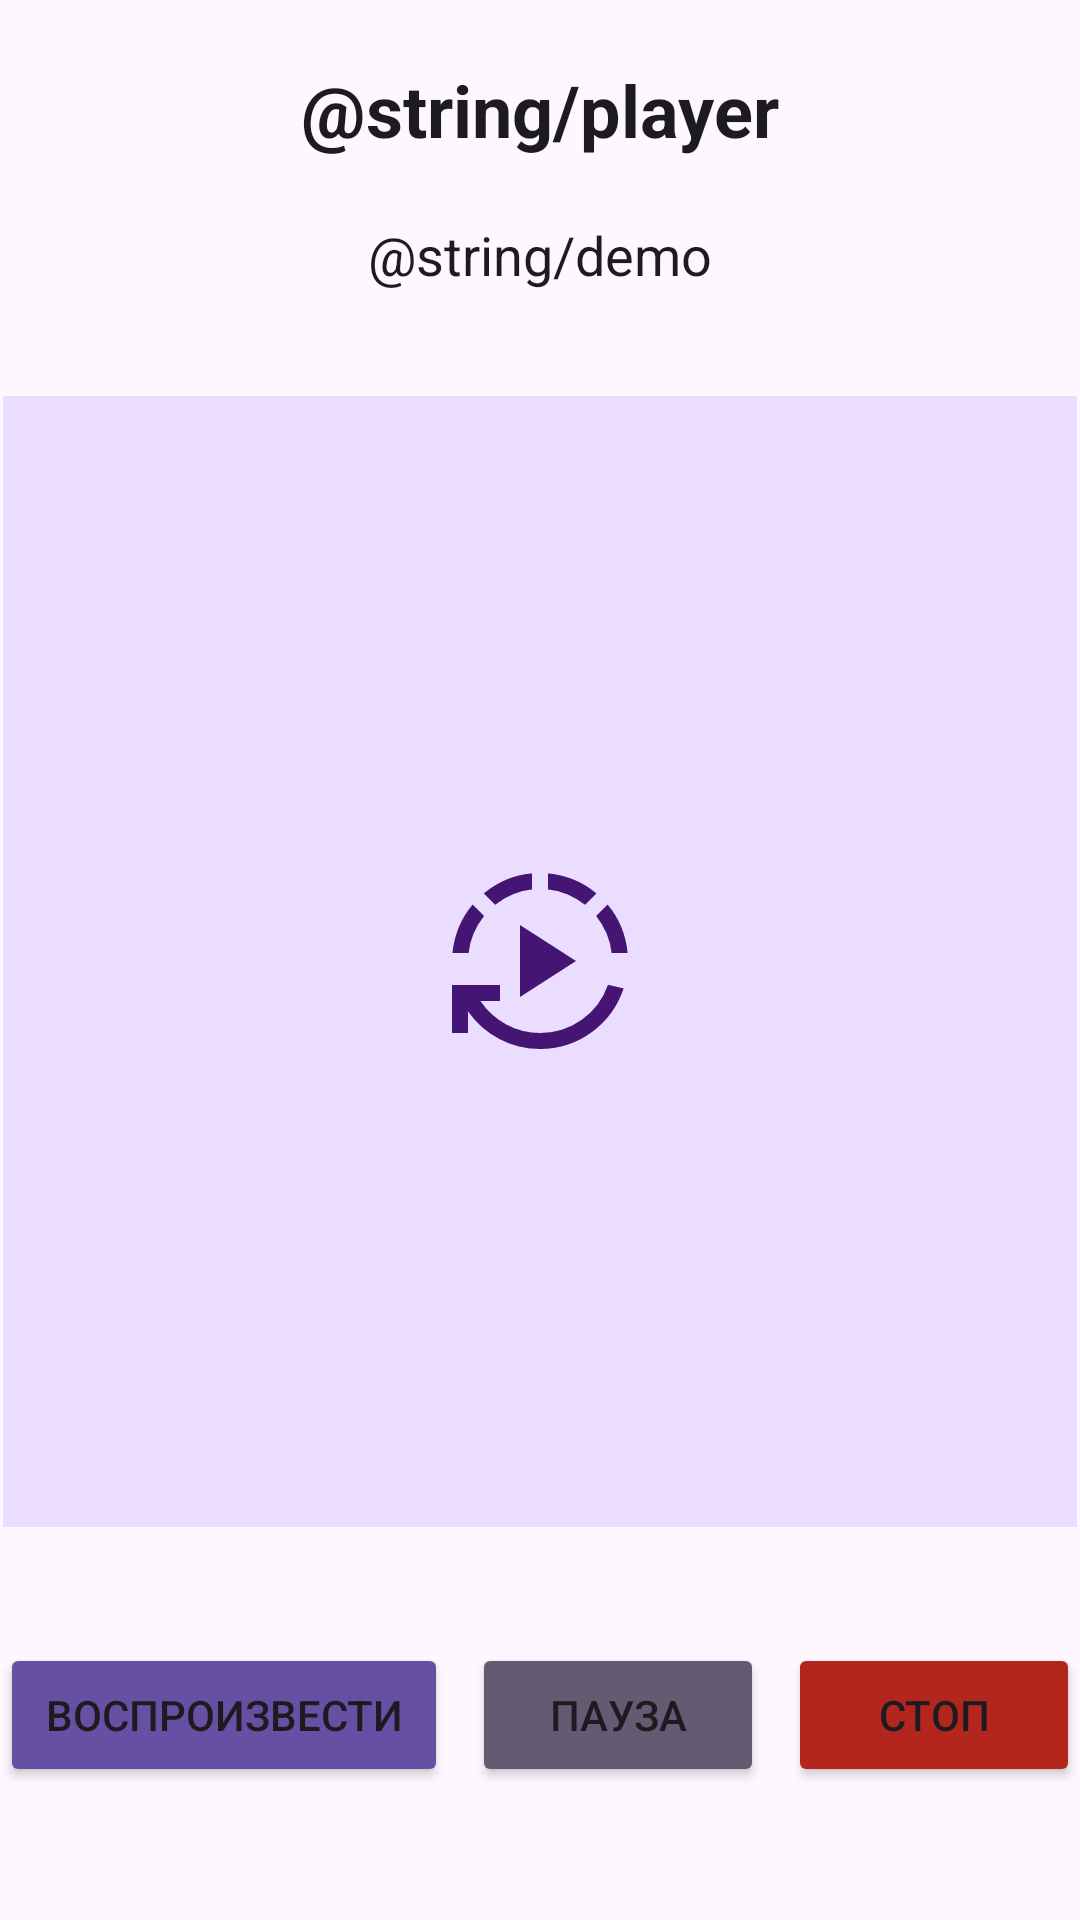

Icons on this 1080×1920 Android screen, each with the point to tap as (x,y):
play circle: (540,961)
